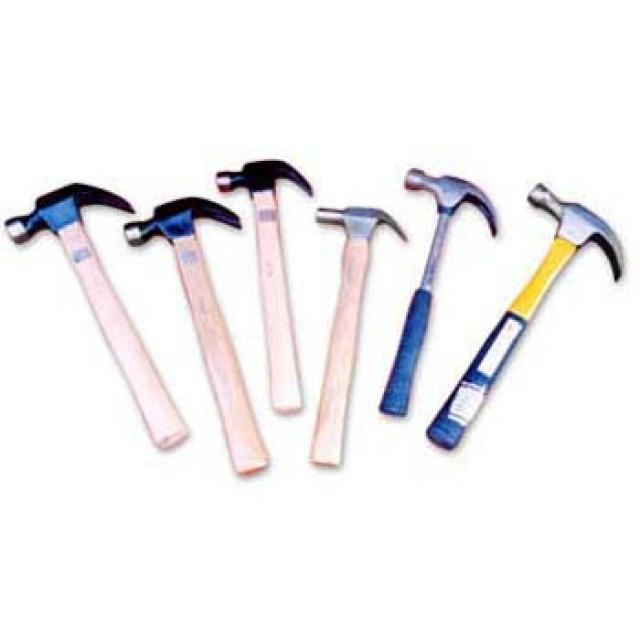hammer: (435, 174, 631, 487), (5, 174, 193, 476), (115, 198, 268, 476), (362, 138, 501, 434), (296, 203, 414, 467), (222, 149, 312, 433)
